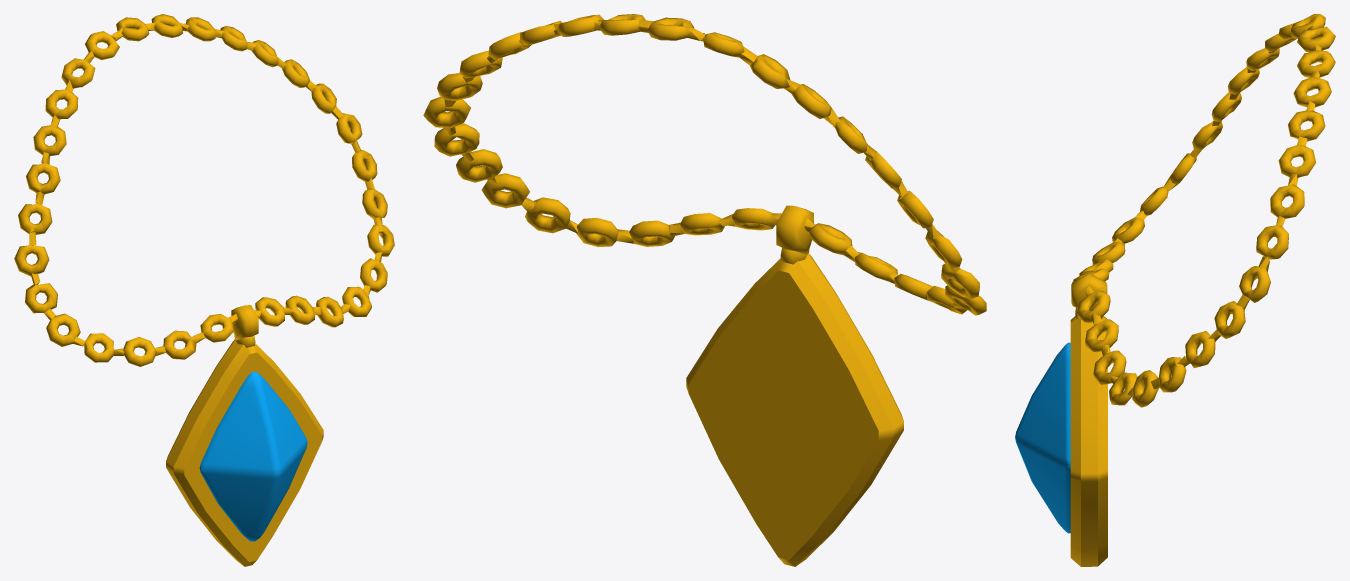
3 renders of one model, left to right at view 1: azimuth 30°, elevation 25°; view 2: azimuth 150°, elevation 25°; view 3: azimuth 270°, elevation 25°, orthographic. The views are drawn at different scales.
Visible parts, largest first — view 1: model_1.022; view 2: model_1.022; view 3: model_1.022.
Part boxes in pixels (<box>): model_1.022: <box>14,14,394,566</box>; model_1.022: <box>423,14,986,566</box>; model_1.022: <box>1015,14,1335,566</box>.
Bounding box in the file's own units: 3.9 × 4.71 × 2.6.
